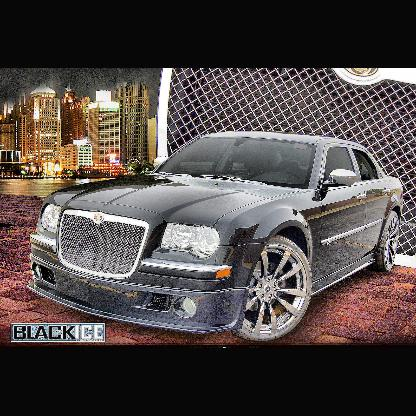Chrysler 300 SRT-8 2010: (26, 132, 407, 339)
